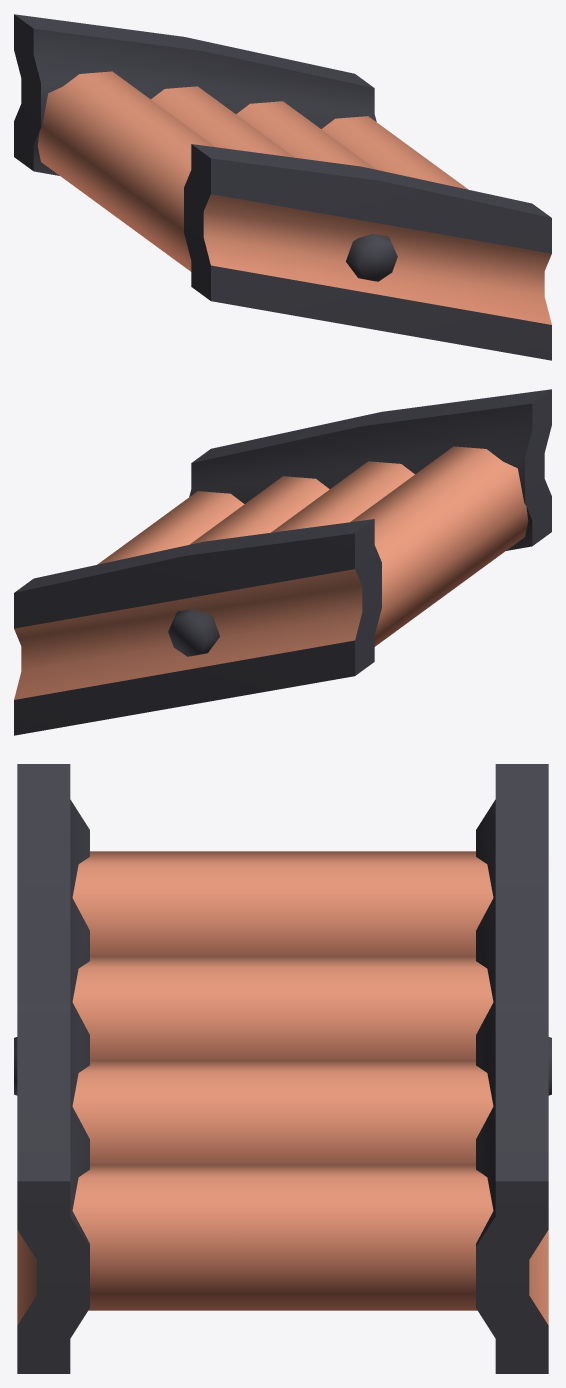
File: conveyor-bars-high-slope.obj
3 renders of one model, top to bottom at view 1: azimuth 30°, elevation 25°; view 2: azimuth 150°, elevation 25°; view 3: azimuth 270°, elevation 25°, orthographic. The views are drawn at different scales.
Visible parts, largest first — view 1: conveyor-bars-high-slope; view 2: conveyor-bars-high-slope; view 3: conveyor-bars-high-slope.
Part boxes in pixels (x1=…): conveyor-bars-high-slope: x1=14, y1=14, x2=551, y2=360; conveyor-bars-high-slope: x1=14, y1=389, x2=551, y2=735; conveyor-bars-high-slope: x1=14, y1=764, x2=551, y2=1373.
Bounding box in the file's own units: 1 × 0.8 × 1.01.
